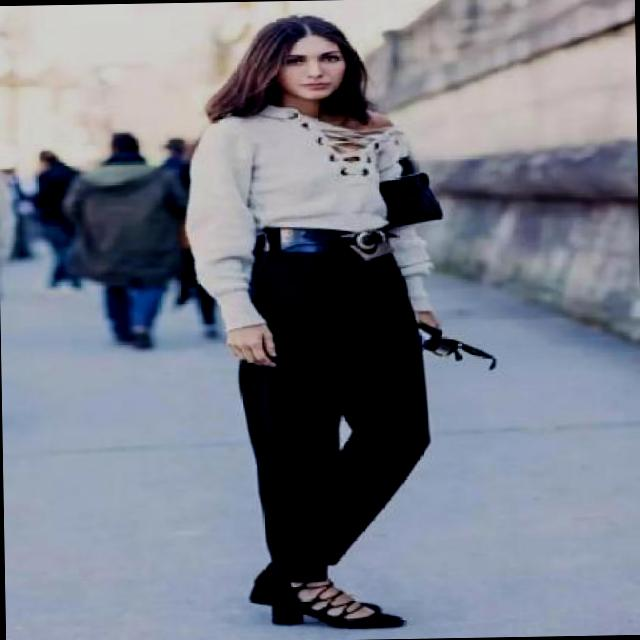Person: (144, 1, 498, 640)
